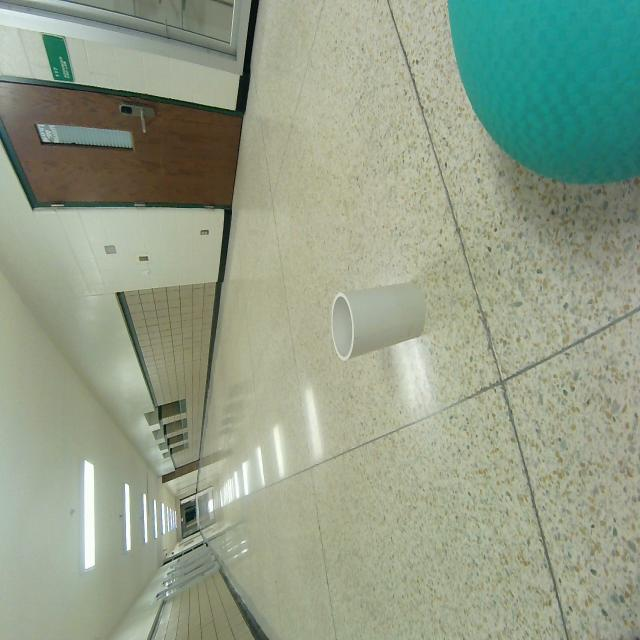algae: (444, 0, 640, 191)
coral: (331, 283, 432, 361)
